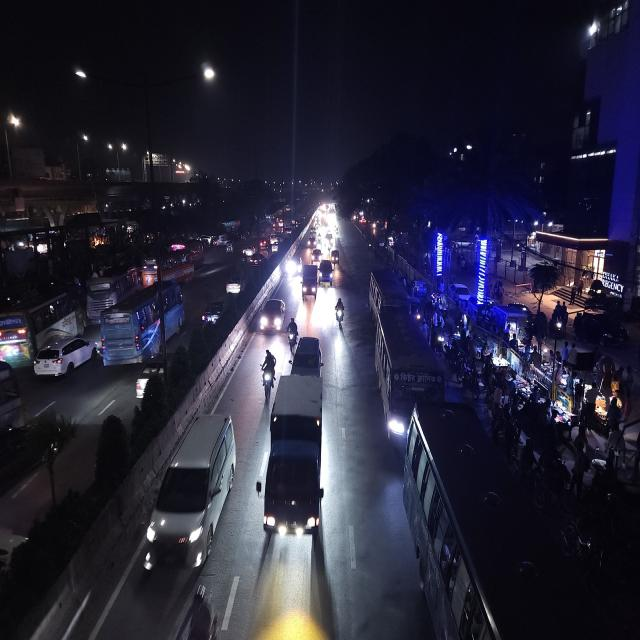bus: (403, 399, 595, 640), (369, 277, 443, 453), (97, 278, 187, 367), (0, 285, 82, 359), (0, 356, 26, 463), (85, 265, 139, 312), (166, 247, 199, 284)
car: (142, 409, 236, 578), (32, 333, 94, 382), (133, 359, 169, 402), (292, 334, 324, 379), (259, 294, 287, 337), (200, 299, 226, 331), (450, 280, 471, 308), (224, 270, 244, 299), (319, 259, 335, 290), (287, 248, 303, 279), (330, 247, 342, 267), (250, 252, 264, 267), (310, 247, 322, 264), (241, 245, 254, 259), (306, 230, 316, 248), (270, 237, 281, 250)
cng: (224, 242, 233, 254)
motorcycle: (259, 345, 277, 401), (333, 295, 347, 333), (286, 317, 300, 354)
truck: (263, 372, 327, 552), (302, 263, 318, 300)
